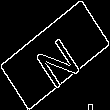N_NW: (27, 23, 83, 87)
